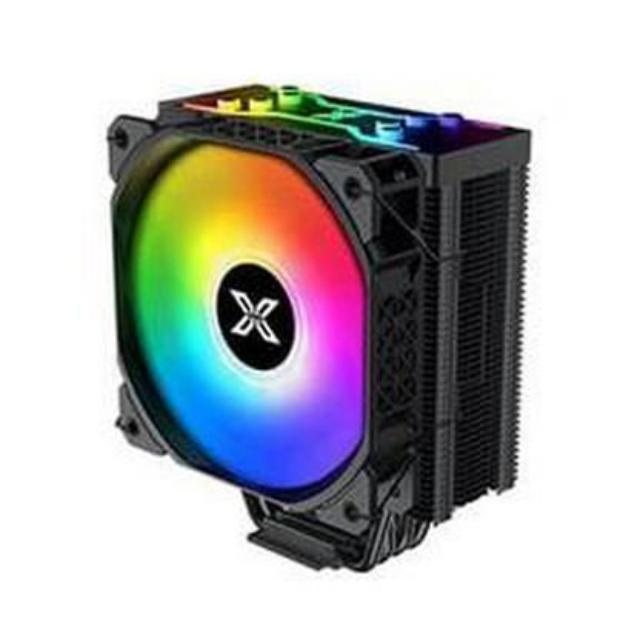CPU_Fan: (104, 78, 522, 574)
